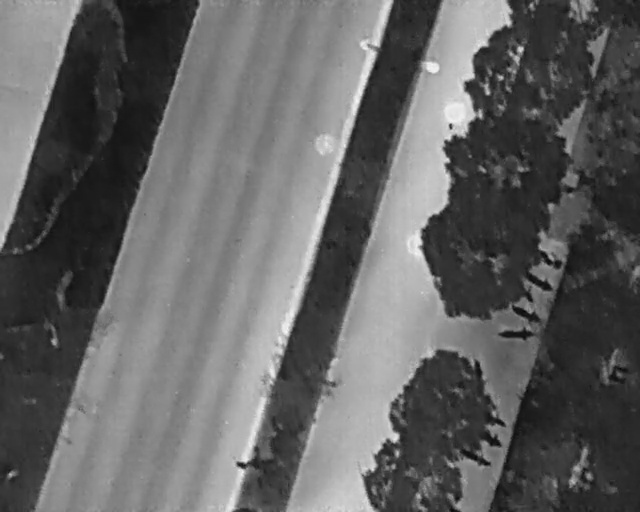Bicycle: (507, 298, 547, 330), (452, 441, 494, 471), (522, 266, 558, 296), (475, 425, 508, 453), (533, 248, 566, 273), (496, 324, 536, 343), (485, 411, 511, 431)
